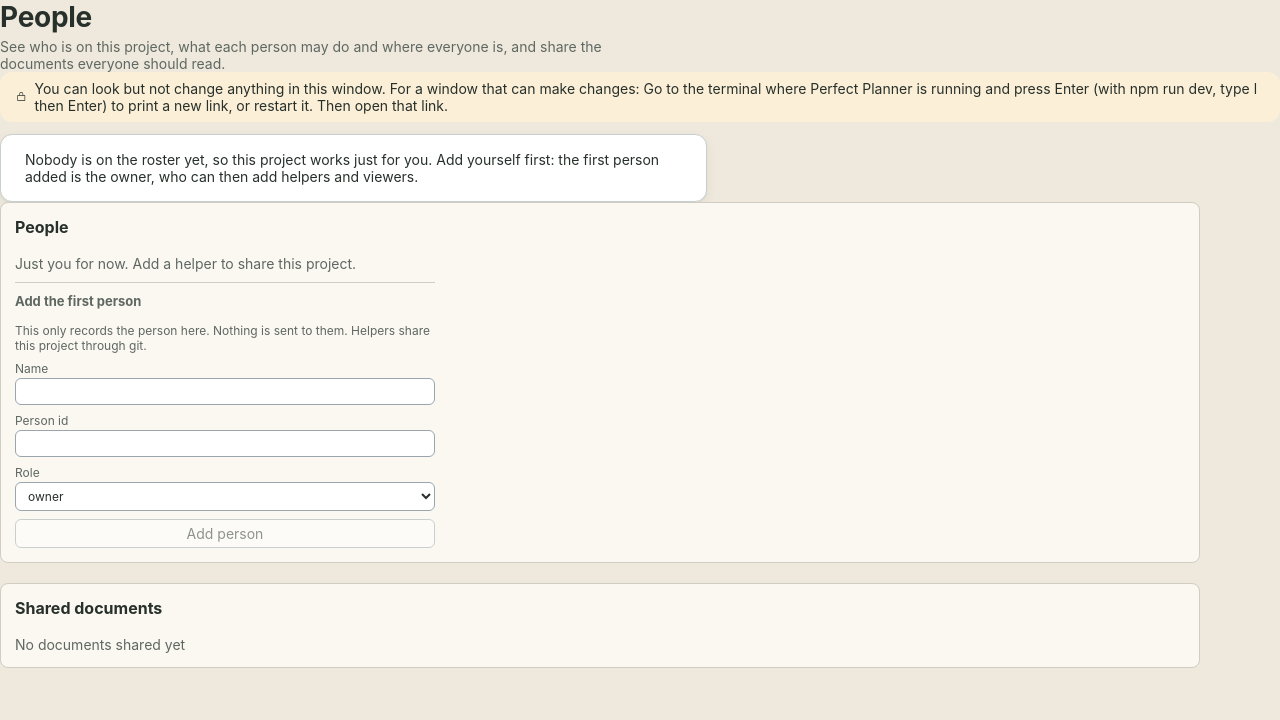
Test: People screen › first run: shows the add-the-first-person form and claims ownership
Expected: the heading "Add the first person" is shown, [15,293,141,309]
Expected: the text "the first person added is the owner" is shown, [25,151,659,185]
In the field labelled "Name": (225, 392) [15,378,435,405], type "Dana Lee"
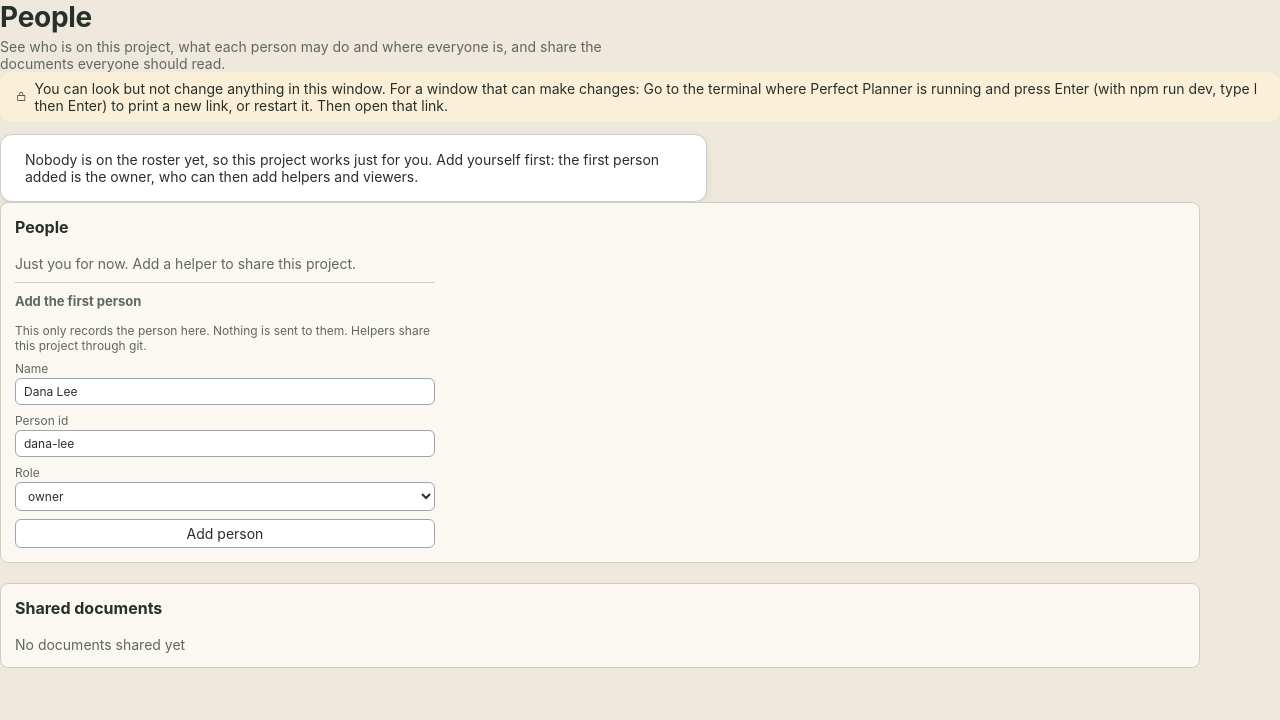
Click the button "Add person": (225, 534) [15,519,435,548]
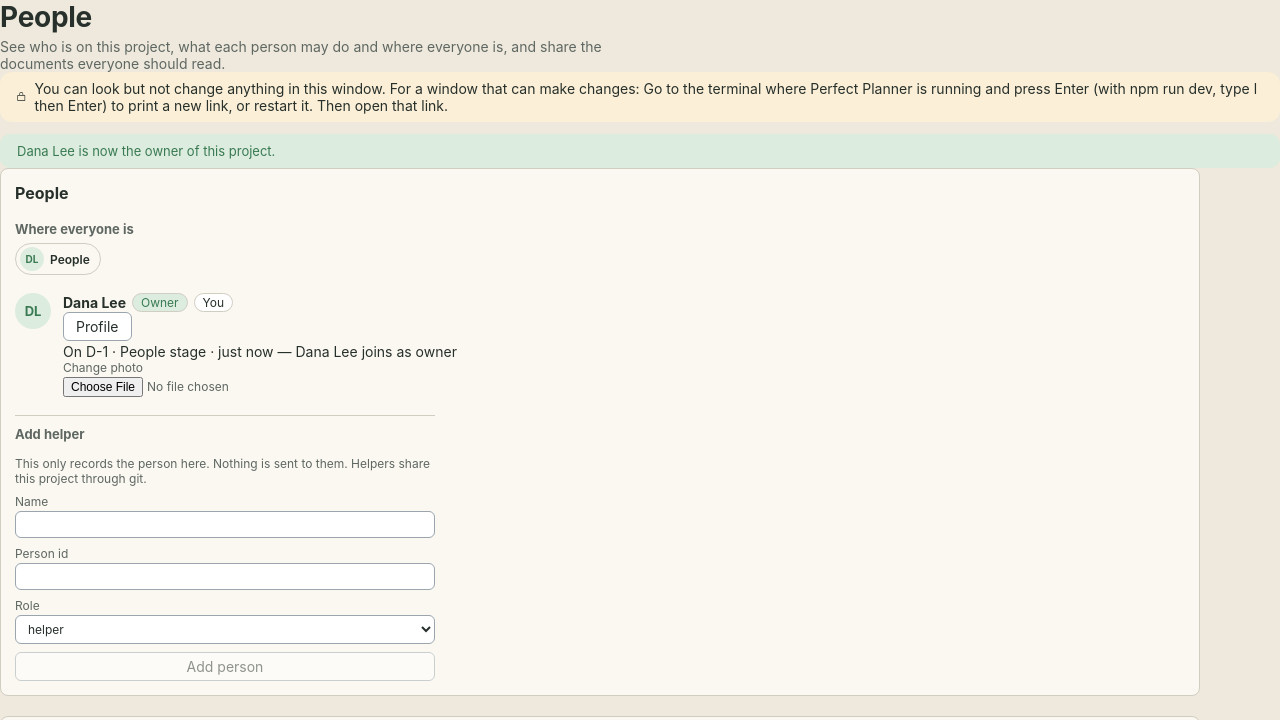
Now the text "Dana Lee is now the owner of this project." is shown, box [0,134,1279,168]
Now the heading "Add helper" is shown, box [15,426,84,442]
